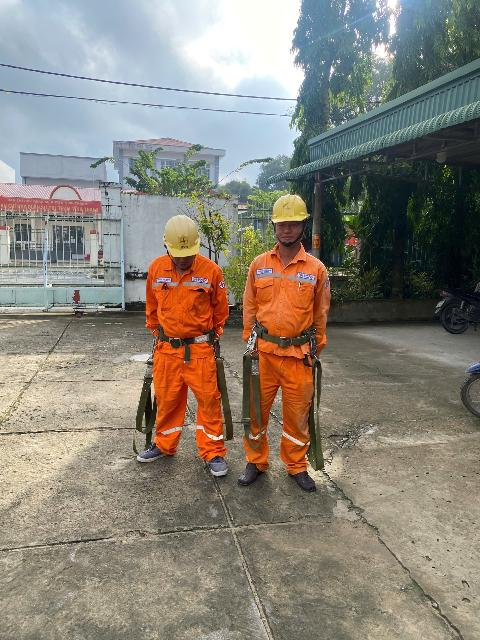harness: (137, 323, 222, 358), (248, 315, 320, 348)
helmet: (158, 203, 213, 258), (265, 182, 311, 225)
shoes: (235, 456, 268, 495), (284, 467, 323, 497), (132, 441, 172, 467), (200, 457, 233, 482)
